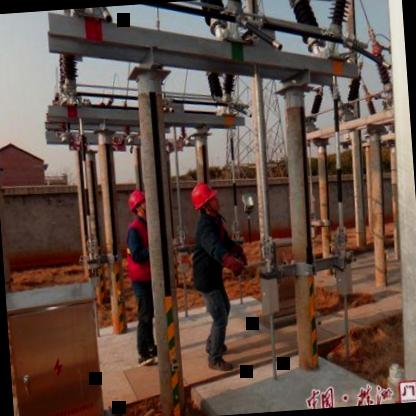helmet: (190, 180, 221, 222), (125, 187, 152, 223)
